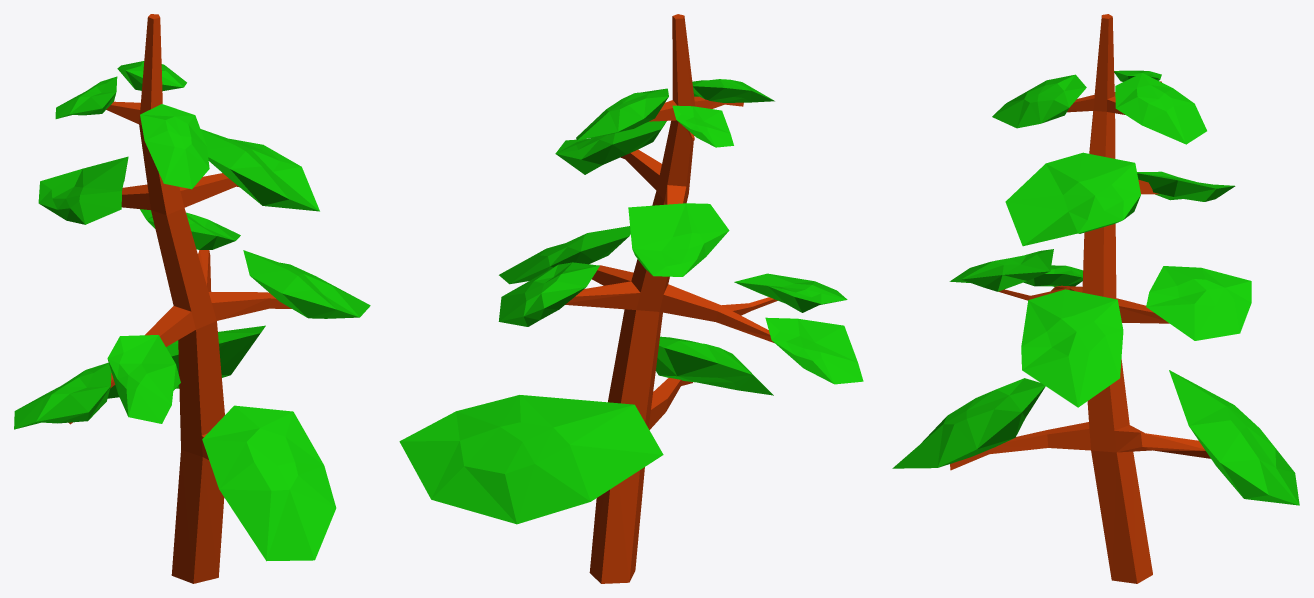
The model's file is tree.obj.
The picture shows the model from 3 angles, left to right: view 1: azimuth 30°, elevation 25°; view 2: azimuth 150°, elevation 25°; view 3: azimuth 270°, elevation 25°; orthographic projection. The views are drawn at different scales.
Visible parts, largest first — view 1: Cube_Cube.001, Cylinder; view 2: Cube_Cube.001, Cylinder; view 3: Cube_Cube.001, Cylinder.
Boxes of the visible parts, x1=… form: Cube_Cube.001: x1=14, y1=61, x2=370, y2=561; Cylinder: x1=68, y1=14, x2=291, y2=583; Cube_Cube.001: x1=399, y1=79, x2=863, y2=524; Cylinder: x1=565, y1=14, x2=777, y2=583; Cube_Cube.001: x1=892, y1=70, x2=1299, y2=505; Cylinder: x1=950, y1=14, x2=1210, y2=583.
Bounding box in the file's own units: 2.91 × 4.4 × 3.05.
